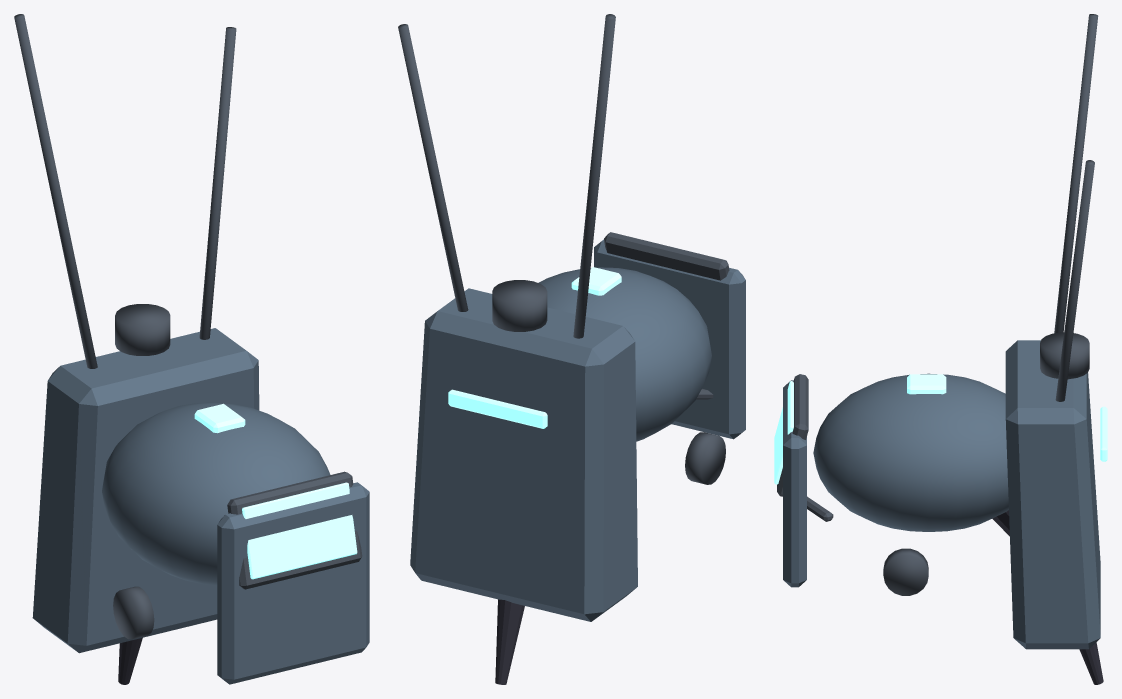
Rendered from hero_bailing_kit.glb.
The picture shows the model from 3 angles, left to right: view 1: azimuth 30°, elevation 25°; view 2: azimuth 150°, elevation 25°; view 3: azimuth 270°, elevation 25°; orthographic projection. The views are drawn at different scales.
Parts seen in each view (by area): view 1: EWPack, FastHelm, ChestRig, TabletScreen, EWAntL, EWAntR, TabletCase, EWReceiver, Earpiece_-1, HelmIFF, PonytailTip; view 2: EWPack, FastHelm, ChestRig, EWAntL, EWAntR, TabletCase, EWReceiver, EWLinkBar, Earpiece_-1, PonytailTip, HelmIFF; view 3: FastHelm, EWPack, ChestRig, EWAntL, EWAntR, Earpiece_1, EWReceiver, TabletCase, TabletScreen, HelmIFF, PonytailTip.
Boxes of the visible parts, x1,y1,x2,y2 form: EWPack: [32, 328, 259, 653]; FastHelm: [102, 402, 330, 585]; ChestRig: [217, 482, 369, 684]; TabletScreen: [242, 482, 357, 579]; EWAntL: [14, 14, 97, 368]; EWAntR: [199, 27, 236, 339]; TabletCase: [227, 471, 362, 589]; EWReceiver: [115, 304, 170, 355]; Earpiece_-1: [113, 586, 154, 639]; HelmIFF: [194, 403, 245, 433]; PonytailTip: [118, 637, 142, 684]; EWPack: [410, 288, 637, 621]; FastHelm: [538, 267, 711, 441]; ChestRig: [594, 239, 745, 439]; EWAntL: [573, 14, 615, 338]; EWAntR: [398, 24, 468, 311]; TabletCase: [604, 232, 729, 280]; EWReceiver: [492, 280, 547, 331]; EWLinkBar: [448, 389, 547, 428]; Earpiece_-1: [685, 432, 725, 484]; PonytailTip: [495, 599, 524, 684]; HelmIFF: [571, 267, 621, 295]; FastHelm: [813, 373, 1008, 531]; EWPack: [1005, 340, 1100, 649]; ChestRig: [783, 380, 806, 587]; EWAntL: [1054, 14, 1098, 333]; EWAntR: [1055, 160, 1094, 401]; Earpiece_1: [883, 548, 928, 595]; EWReceiver: [1040, 332, 1089, 379]; TabletCase: [777, 374, 808, 496]; TabletScreen: [774, 381, 793, 484]; HelmIFF: [907, 374, 946, 394]; PonytailTip: [1079, 642, 1103, 684].
Bounding box in the file's own units: 0.2195 × 0.6662 × 0.3233.
